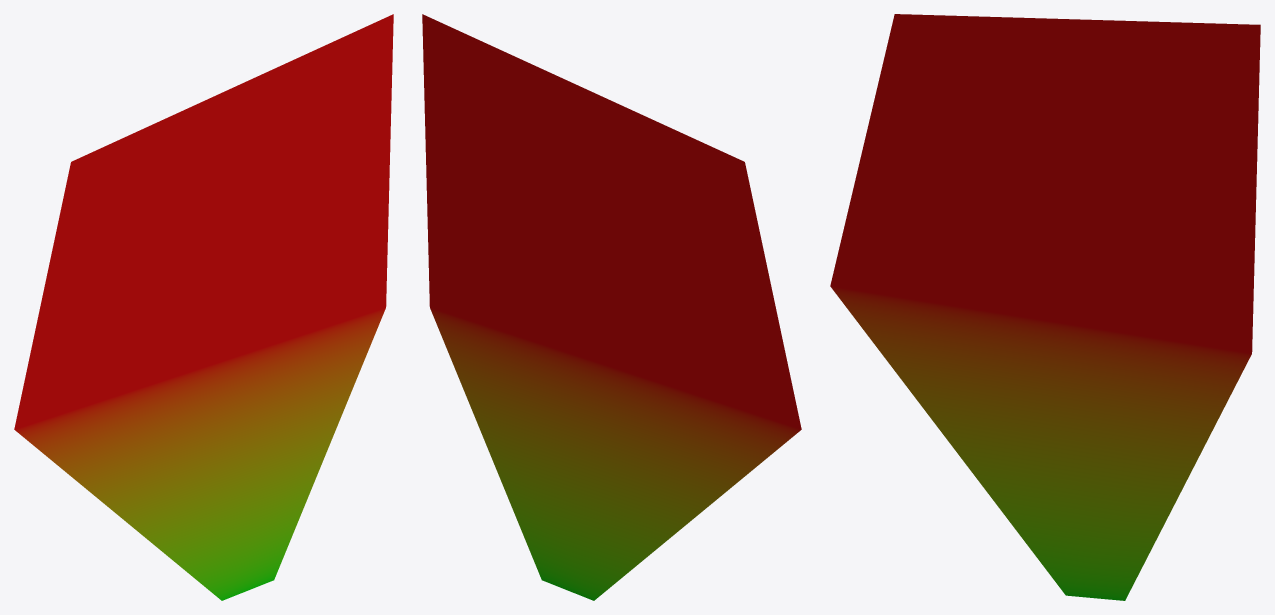
The model's file is Var3_LOD5.fbx.
3 renders of one model, left to right at view 1: azimuth 30°, elevation 25°; view 2: azimuth 150°, elevation 25°; view 3: azimuth 330°, elevation 25°, orthographic. The views are drawn at different scales.
Parts seen in each view (by area): view 1: _fa4b_Var3_LOD5; view 2: _fa4b_Var3_LOD5; view 3: _fa4b_Var3_LOD5.
Boxes of the visible parts, x1,y1,x2,y2 form: _fa4b_Var3_LOD5: (14,14,393,600); _fa4b_Var3_LOD5: (422,14,801,600); _fa4b_Var3_LOD5: (830,14,1260,600).
Bounding box in the file's own units: 82.74 × 114 × 1.38e-05.
